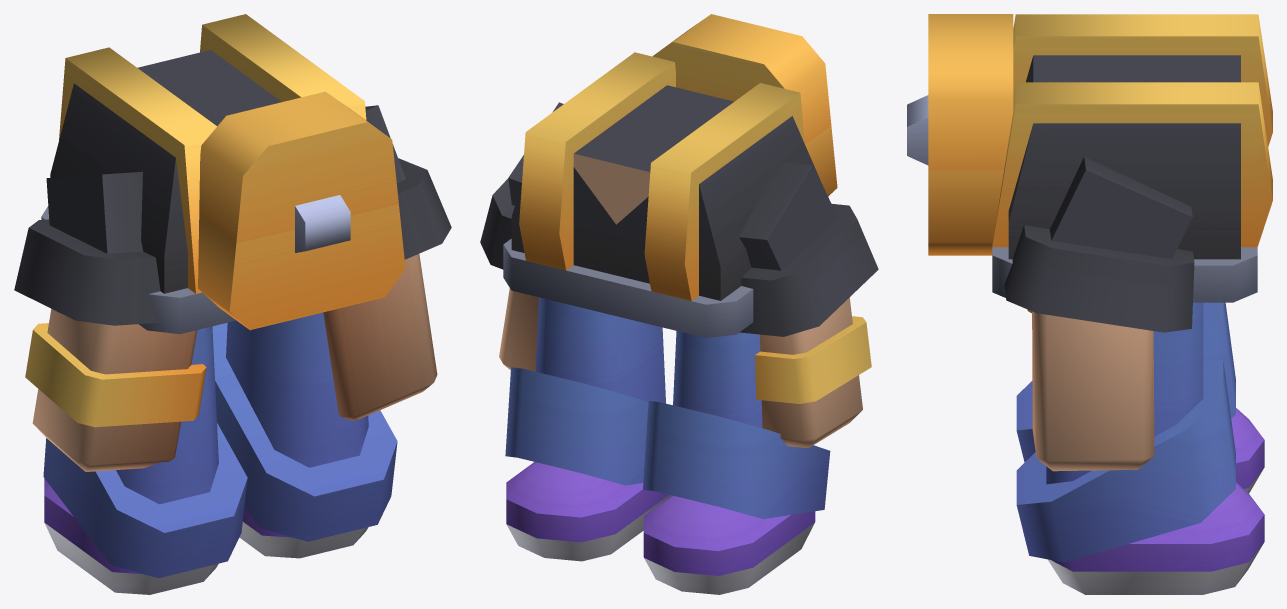
Rendered from mini-female-f.glb.
3 renders of one model, left to right at view 1: azimuth 30°, elevation 25°; view 2: azimuth 150°, elevation 25°; view 3: azimuth 270°, elevation 25°, orthographic. The views are drawn at different scales.
Parts seen in each view (by area): view 1: body-mesh; view 2: body-mesh; view 3: body-mesh.
Boxes of the visible parts, box(x1,y1,x2,y2) form: body-mesh: box(14, 14, 451, 594); body-mesh: box(480, 14, 878, 594); body-mesh: box(907, 14, 1272, 594).
Size of the model in its own units: 1.13 by 1.4 by 0.9371.
1 material, 1 textured.
